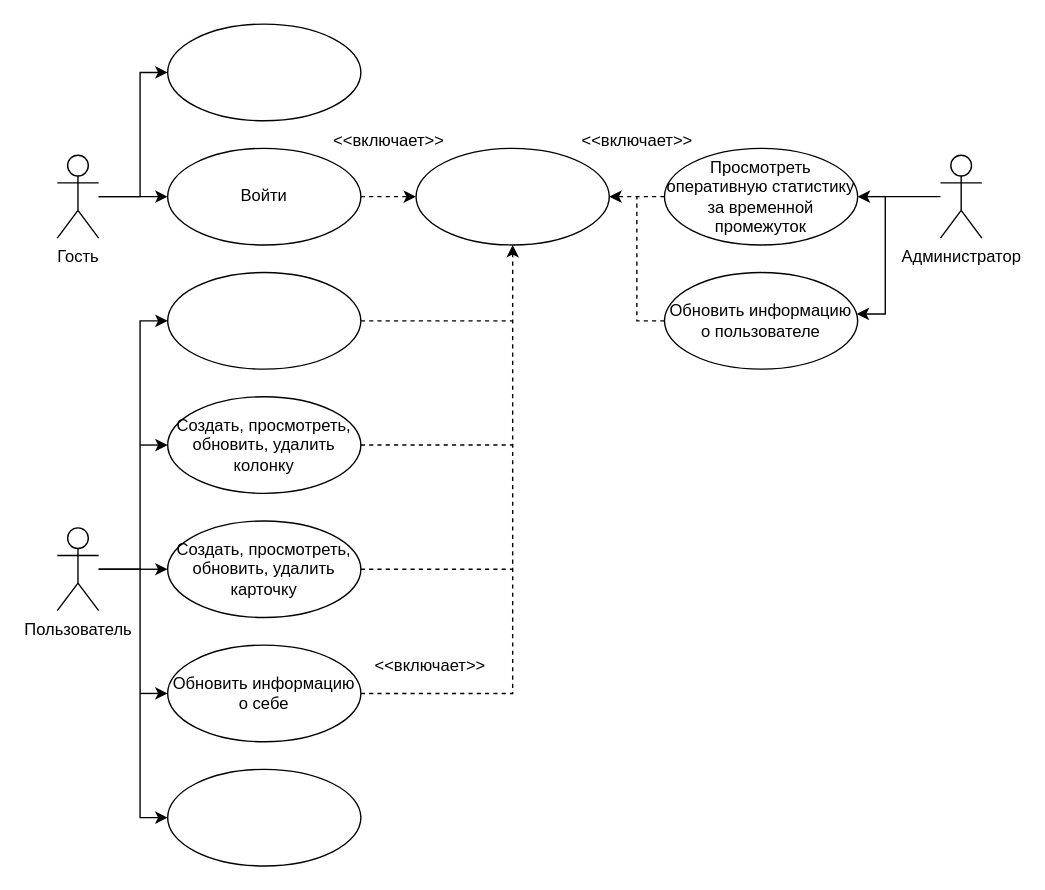
Some shapes in this 1045 by 890 pixel diagram are drawn without their labels. The box of each missing label's shape, as (x1, y1, x2, y2) in pixels:
Авторизоваться: (415, 147, 609, 245)
Выйти: (166, 768, 361, 866)
Зарегистрироваться: (166, 23, 361, 121)
Создать, просмотреть, обновить, удалить доску: (166, 271, 361, 369)
